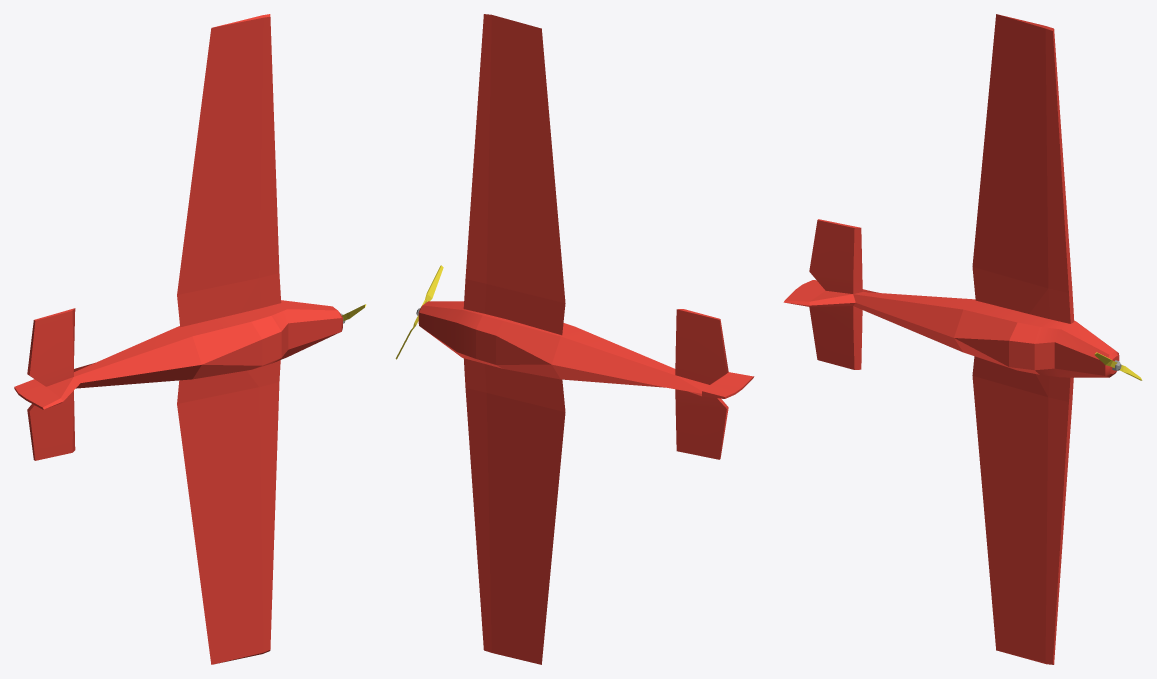
Rendered from bc5fd85c-e55f-4e52-aa1d-bdd57ce00579.glb.
The picture shows the model from 3 angles, left to right: view 1: azimuth 30°, elevation 25°; view 2: azimuth 150°, elevation 25°; view 3: azimuth 330°, elevation 25°; orthographic projection.
Parts seen in each view (by area): view 1: pCube60; view 2: pCube60; view 3: pCube60.
Boxes of the visible parts, x1,y1,x2,y2 form: pCube60: (14, 14, 366, 664); pCube60: (395, 14, 754, 664); pCube60: (783, 14, 1142, 664).
Bounding box in the file's own units: 263 × 499 × 65.76.
